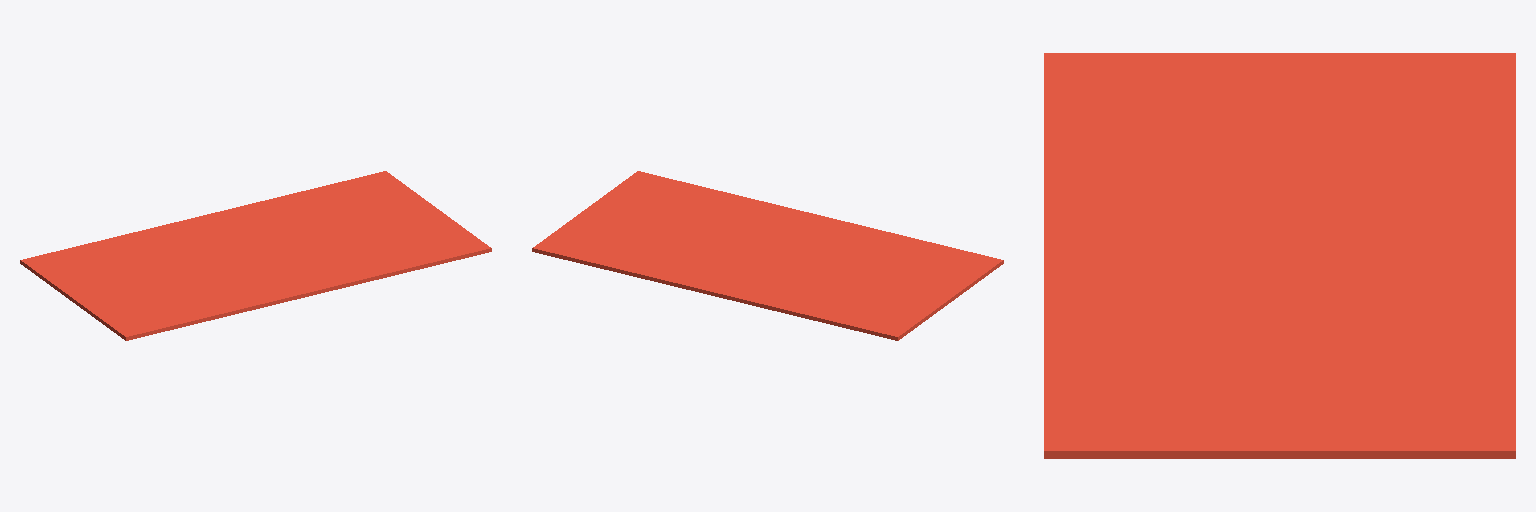
The robot description file, URDF, robot "ground":
<?xml version="1.0"?>
<robot name="ground"> 
  <link name="ground_base">
    <visual>
      <geometry>
        <box size="2 1 0.02"/>
      </geometry>
      <origin xyz="0 0 -0.01"/>
      <material name="Orange">
        <color rgba="1 0.4 0.3 0.6"/>
      </material>
    </visual>
    <collision>
      <geometry>
        <box size="2 1 0.02"/>
      </geometry>
      <origin xyz="0 0 -0.02"/>
    </collision>
  </link>
</robot>

--- What the picture shows (computed from the rendered views, not written in the file) ---
The picture shows the robot from 3 angles, left to right: view 1: azimuth 30°, elevation 25°; view 2: azimuth 150°, elevation 25°; view 3: azimuth 270°, elevation 25°; orthographic projection.
Model ground with 1 links and 0 joints (none), rooted at ground_base, posed all joints at 0.
Links seen in each view (by area): view 1: ground_base; view 2: ground_base; view 3: ground_base.
Boxes of the visible links, x1,y1,x2,y2 form: ground_base: (20,171,491,340); ground_base: (532,171,1003,340); ground_base: (1044,53,1515,458).
Bounding box of the posed robot: 2 × 1 × 0.02 m (x, y, z).
Geometry: primitives only (box / cylinder / sphere), no mesh files.